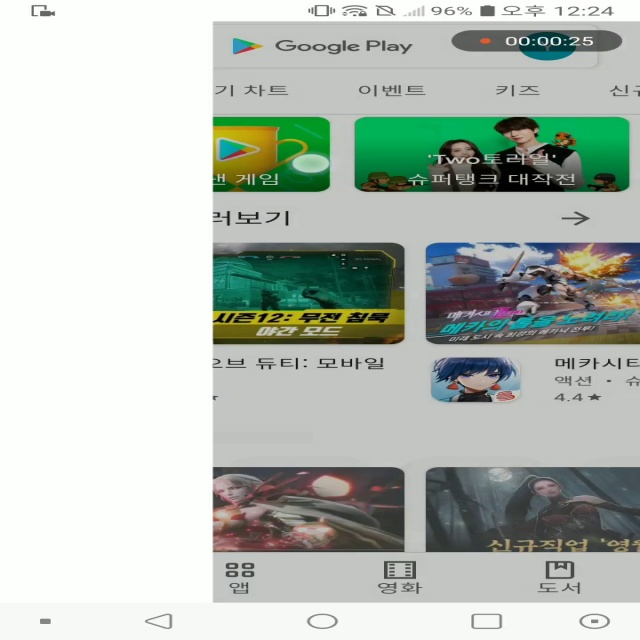Cursor: (289, 152, 334, 175)
